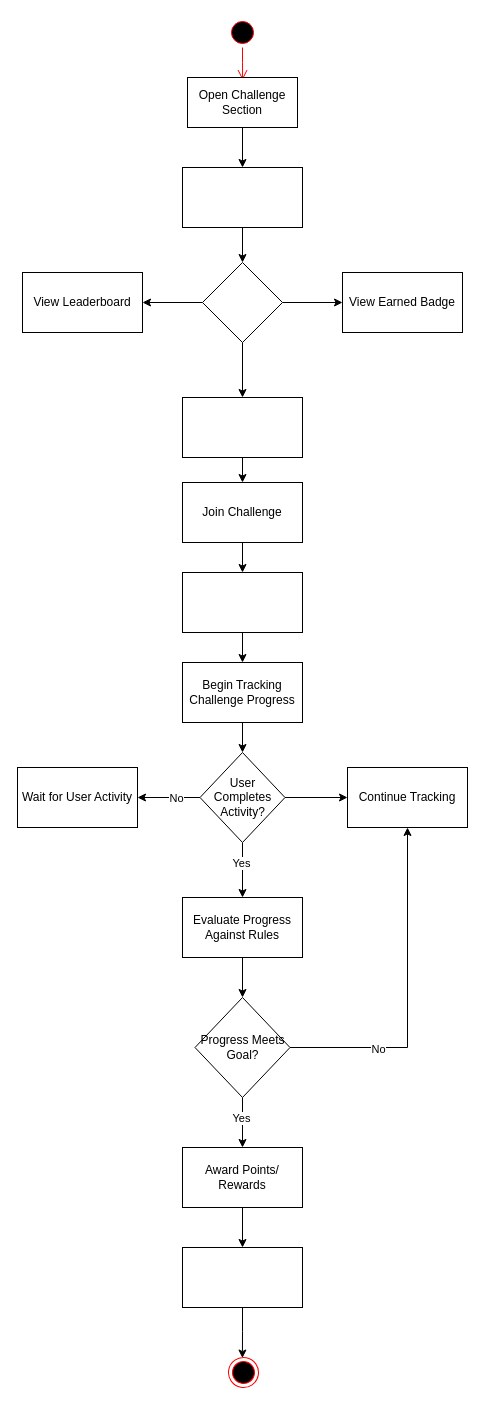
Some shapes in this 485 by 1408 pixel diagram are drawn without their labels. Here are the shapes that lost their labels. From the top down, the centre of each, then its label:
At (242,197): "Display available Challenges".
At (242,302): "Select Challenge Action".
At (242,427): "Show Challenge Details".
At (242,602): "Send Join Request".
At (242,1277): "Update Leaderboard".
